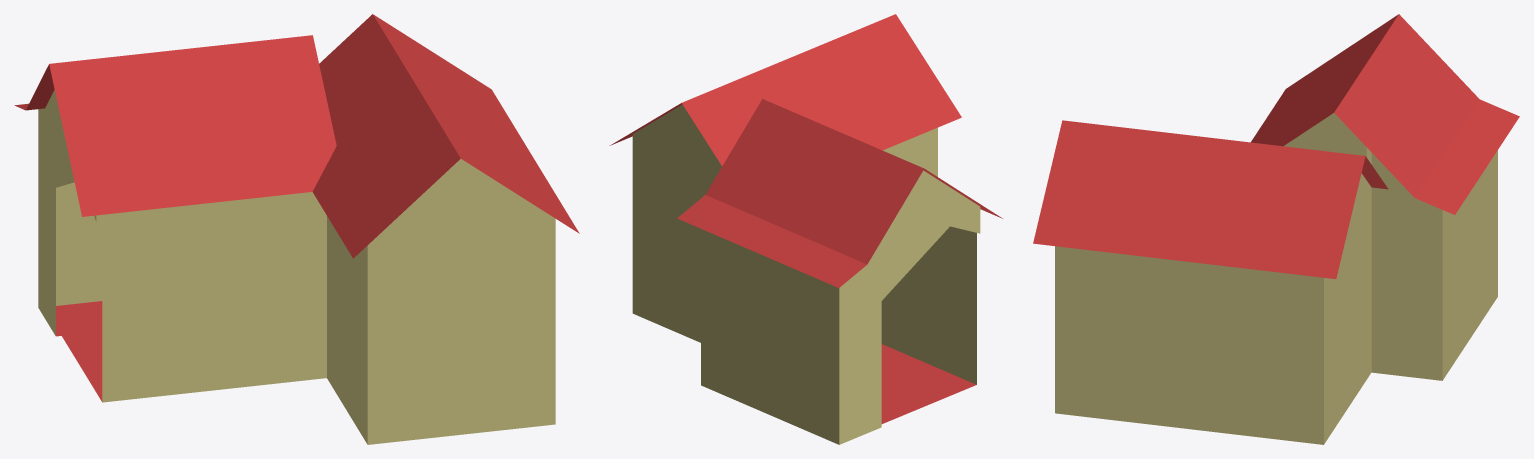
3 views of the same model, side by side, from view 1: azimuth 30°, elevation 25°; view 2: azimuth 150°, elevation 25°; view 3: azimuth 270°, elevation 25° (orthographic). The views are drawn at different scales.
Bounding box in the file's own units: 18.93 × 20.47 × 12.21.
